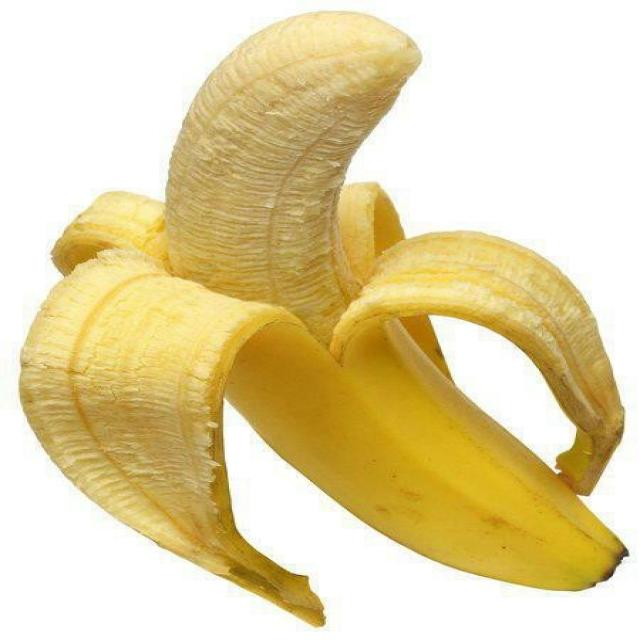banana: (22, 13, 625, 623), (22, 250, 322, 625)
